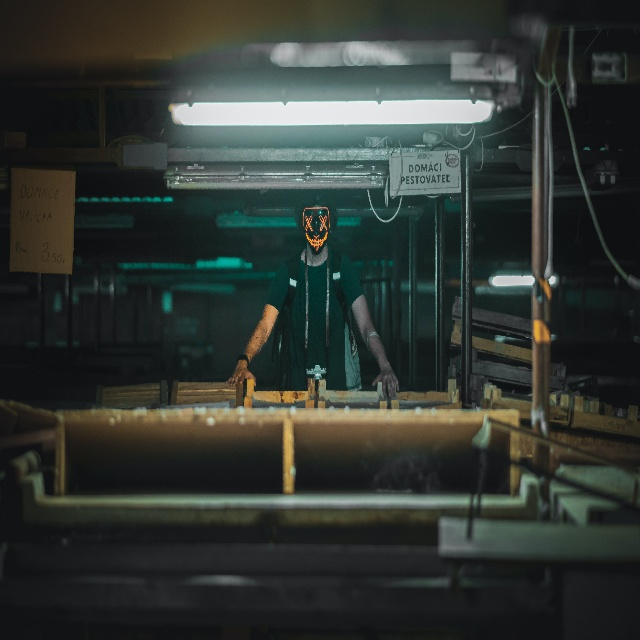Sin_guantes: (372, 366, 399, 396), (225, 364, 256, 386)
